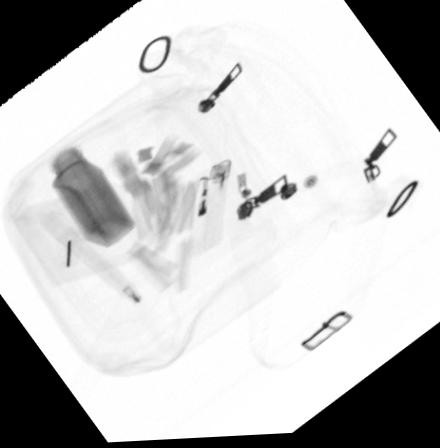Lighter: (194, 159, 233, 259)
